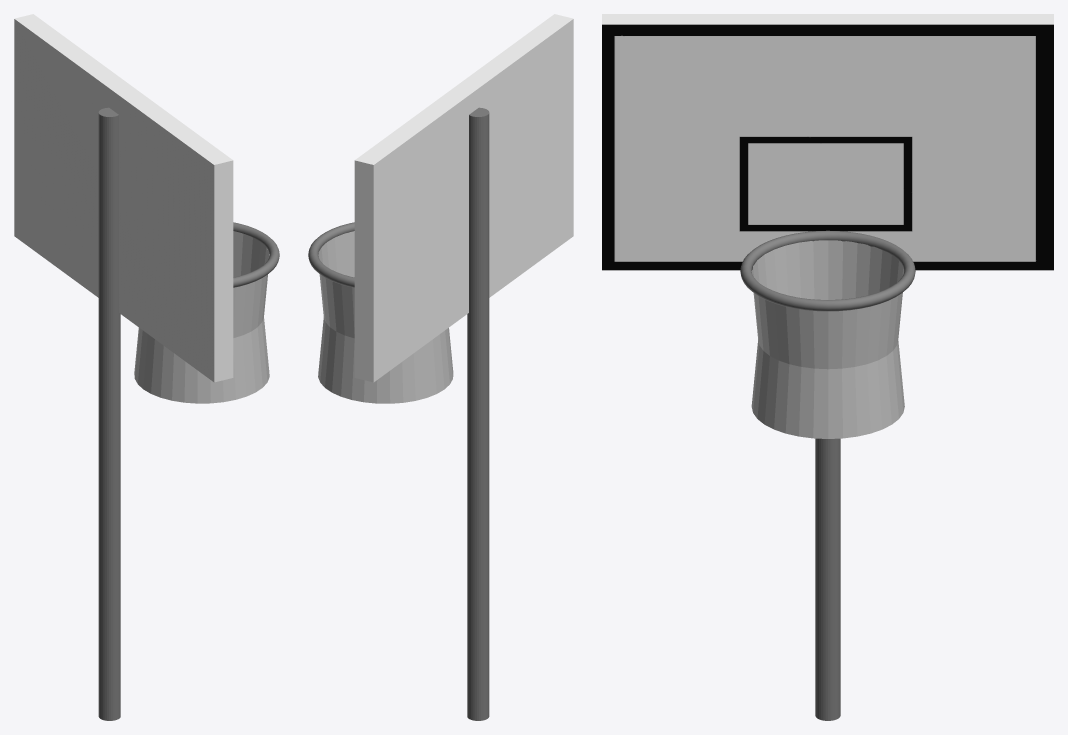
Rendered from BasketBall Hoop.fbx.
3 views of the same model, side by side, from view 1: azimuth 30°, elevation 25°; view 2: azimuth 150°, elevation 25°; view 3: azimuth 270°, elevation 25° (orthographic). The views are drawn at different scales.
Visible parts, largest first — view 1: Cube, Cylinder, Cylinder.001, Torus.002; view 2: Cube, Cylinder, Cylinder.001, Torus.002; view 3: Cube, Cylinder.001, Cylinder, Torus.002.
Part boxes in pixels (x1,y1,x2,y2): Cube: (14, 14, 233, 382); Cylinder: (98, 107, 120, 720); Cylinder.001: (134, 231, 269, 403); Torus.002: (233, 222, 279, 287); Cube: (354, 14, 573, 382); Cylinder: (467, 107, 489, 720); Cylinder.001: (318, 231, 453, 403); Torus.002: (308, 222, 354, 287); Cube: (602, 14, 1053, 270); Cylinder.001: (751, 240, 904, 438); Cylinder: (815, 438, 840, 720); Torus.002: (740, 230, 915, 311).
Size of the model in its own units: 176 by 619 by 360.
